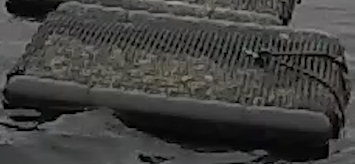bag: (7, 3, 348, 137)
